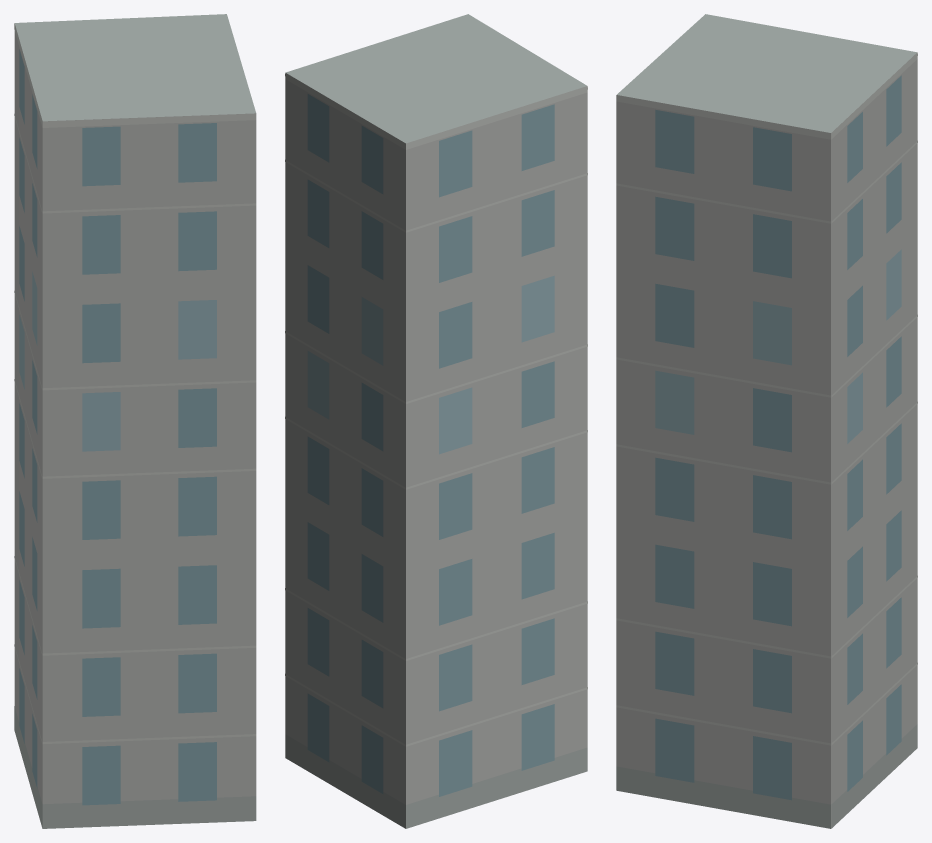
The model's file is survey-upis-32868872.glb.
3 views of the same model, side by side, from view 1: azimuth 30°, elevation 25°; view 2: azimuth 150°, elevation 25°; view 3: azimuth 270°, elevation 25° (orthographic). The views are drawn at different scales.
Visible parts, largest first — view 1: survey-upis-32868872.tmp; view 2: survey-upis-32868872.tmp; view 3: survey-upis-32868872.tmp.
Boxes of the visible parts, x1,y1,x2,y2 form: survey-upis-32868872.tmp: [14, 14, 256, 828]; survey-upis-32868872.tmp: [285, 14, 587, 828]; survey-upis-32868872.tmp: [616, 14, 917, 828].
Bounding box in the file's own units: 9.44 × 25.65 × 10.08.
